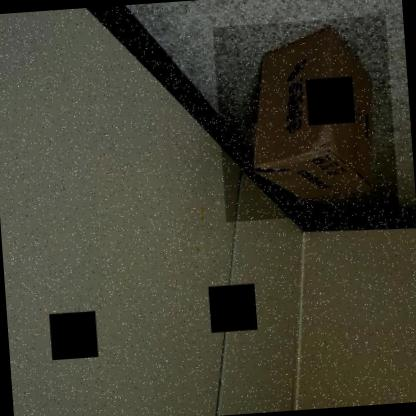box: (212, 15, 400, 222)
